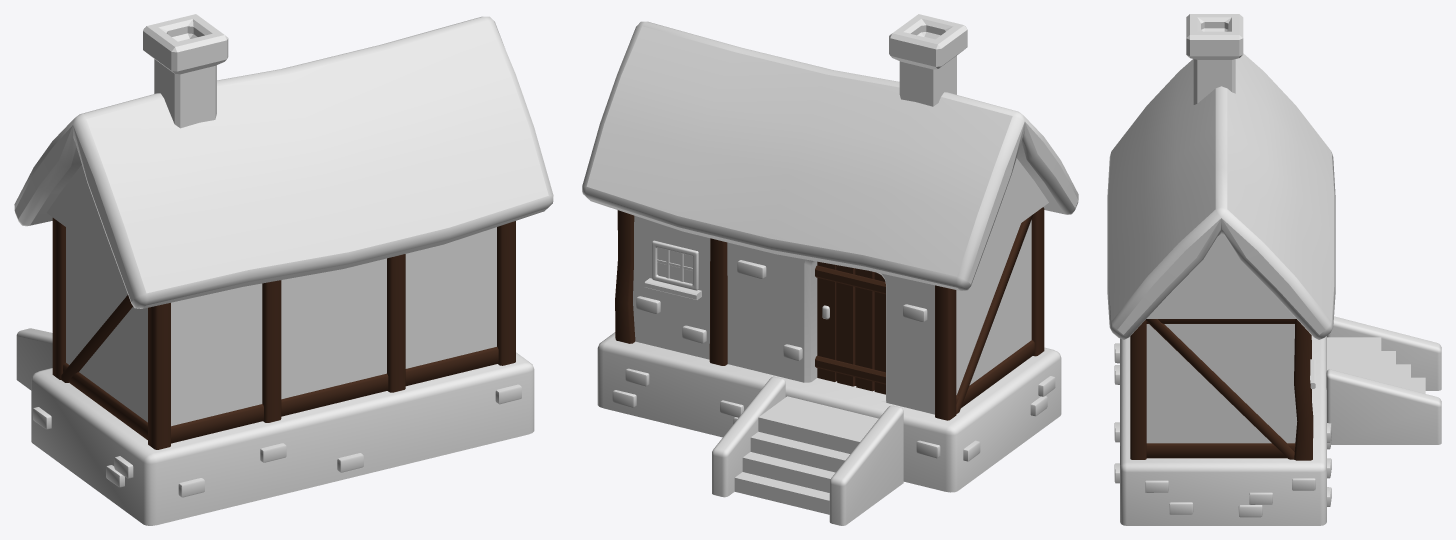
File: Building 1.fbx
The picture shows the model from 3 angles, left to right: view 1: azimuth 30°, elevation 25°; view 2: azimuth 150°, elevation 25°; view 3: azimuth 270°, elevation 25°; orthographic projection. The views are drawn at different scales.
Visible parts, largest first — view 1: Building 1; view 2: Building 1; view 3: Building 1.
Boxes of the visible parts, box(x1,y1,x2,y2) form: Building 1: box(14, 14, 553, 525); Building 1: box(582, 14, 1078, 525); Building 1: box(1107, 14, 1441, 525).
Size of the model in its own units: 2.5 by 2.46 by 1.98.
